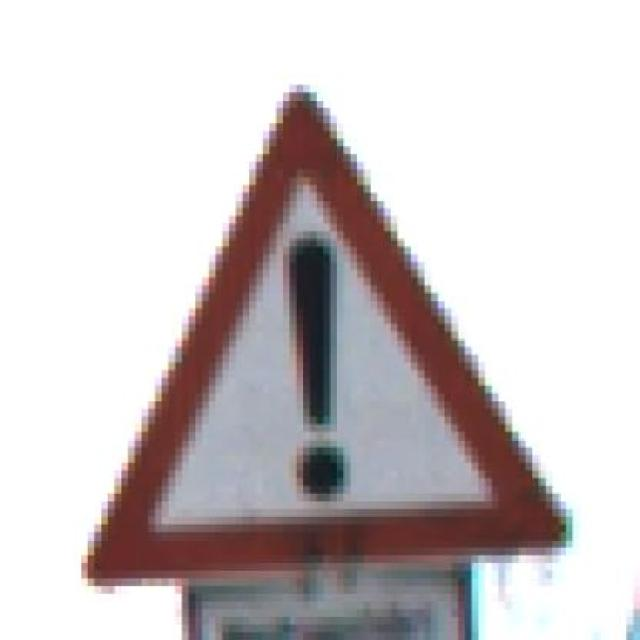Attention Please-: (81, 46, 587, 571)
